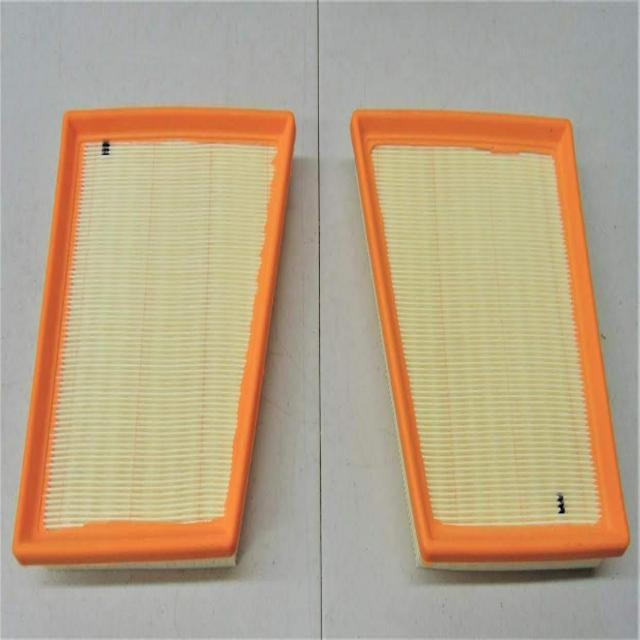air_filter: (8, 95, 304, 577), (346, 100, 632, 588)
